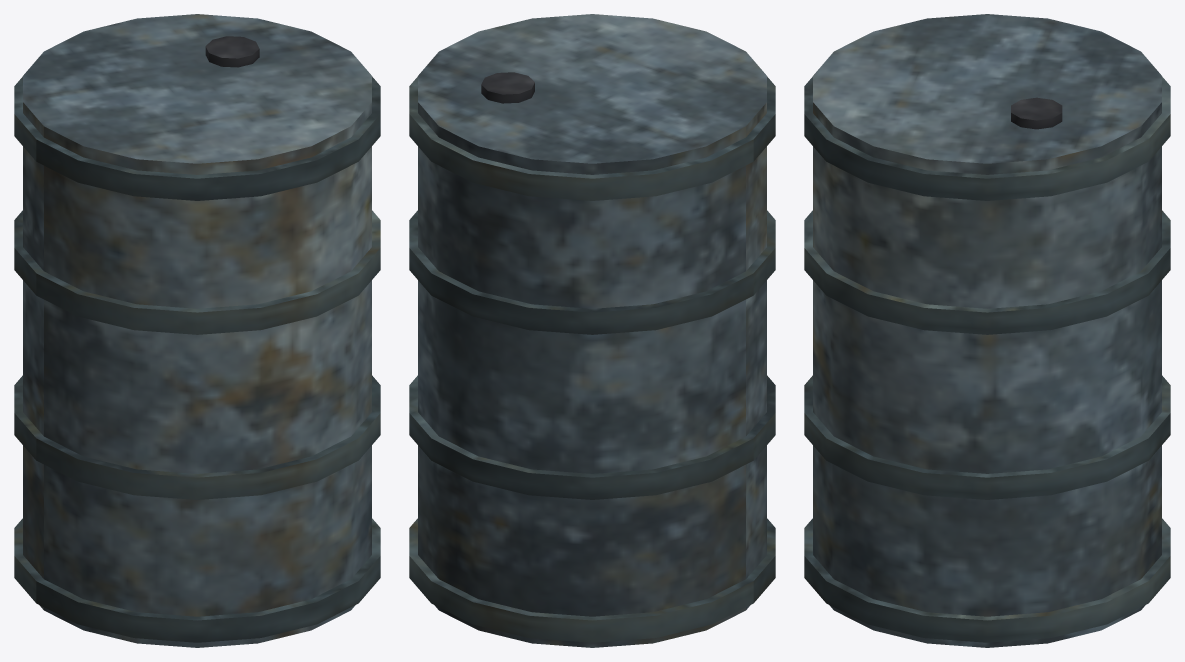
Rendered from Drum_Aged.glb.
3 views of the same model, side by side, from view 1: azimuth 30°, elevation 25°; view 2: azimuth 150°, elevation 25°; view 3: azimuth 270°, elevation 25° (orthographic).
Parts seen in each view (by area): view 1: Drum_Aged; view 2: Drum_Aged; view 3: Drum_Aged.
Part boxes in pixels (x1,y1,x2,y2): Drum_Aged: (14, 14, 380, 647); Drum_Aged: (409, 14, 775, 647); Drum_Aged: (804, 14, 1170, 647).
Bounding box in the file's own units: 0.756 × 1.11 × 0.7445.
1 material, 1 textured.
